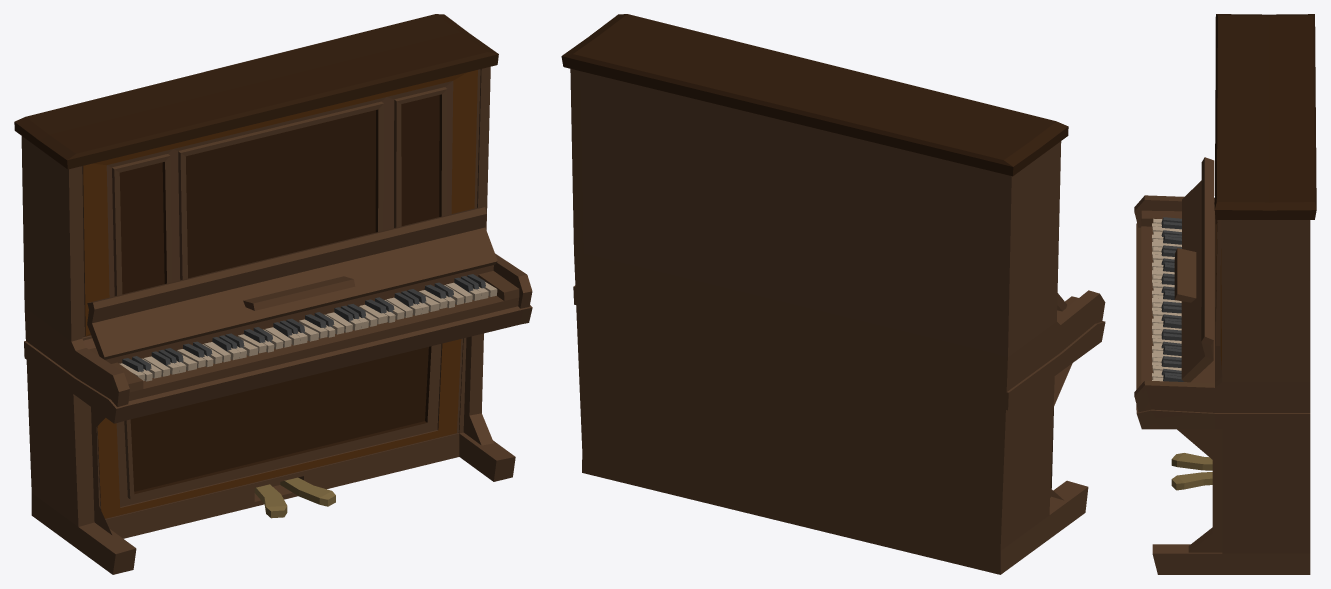
Rendered from Piano.glb.
3 views of the same model, side by side, from view 1: azimuth 30°, elevation 25°; view 2: azimuth 150°, elevation 25°; view 3: azimuth 270°, elevation 25° (orthographic). The views are drawn at different scales.
Parts seen in each view (by area): view 1: Piano; view 2: Piano; view 3: Piano.
Part boxes in pixels (x1,y1,x2,y2): Piano: (14, 14, 532, 574); Piano: (561, 14, 1105, 574); Piano: (1134, 14, 1316, 574).
Size of what is drawn, in the model's own units: 2.34 by 2.08 by 0.9147.
Materials: 1 (1 with a texture image).
